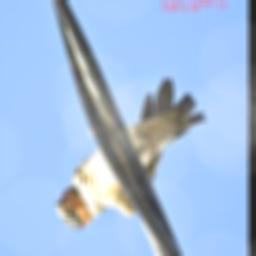Swallow: (52, 76, 207, 232)
